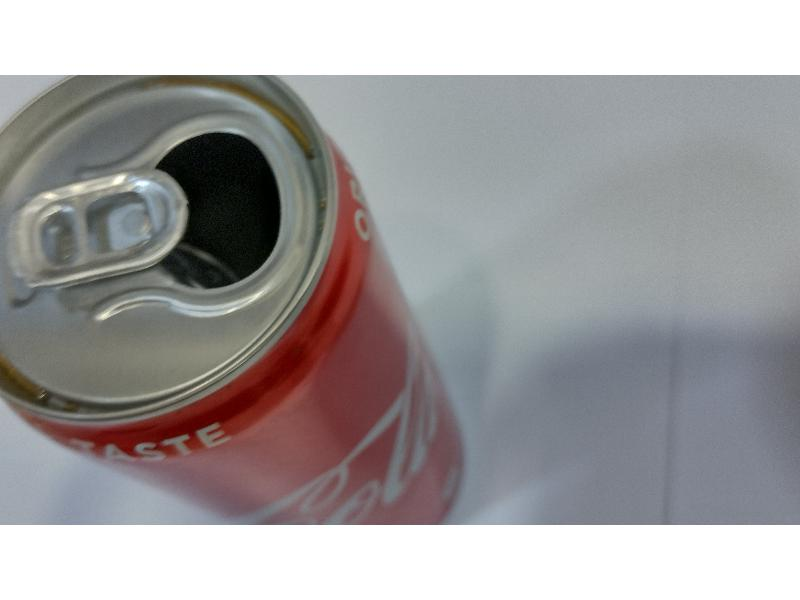can: (0, 73, 486, 520)
